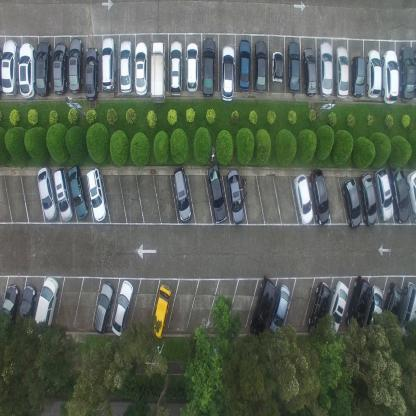car: (32, 275, 60, 336), (249, 277, 276, 337), (345, 275, 371, 331), (325, 280, 349, 336), (388, 164, 410, 223), (67, 165, 90, 221), (308, 281, 332, 334), (86, 168, 109, 223), (54, 166, 76, 222), (112, 278, 134, 334), (150, 283, 172, 339), (37, 166, 59, 222), (206, 165, 226, 226), (380, 282, 402, 336), (292, 172, 313, 227), (310, 168, 330, 225), (361, 286, 384, 335), (94, 281, 115, 334), (268, 284, 289, 337), (172, 167, 192, 222), (0, 282, 20, 336), (1, 37, 19, 96), (374, 168, 394, 221), (150, 39, 166, 105), (226, 168, 244, 226), (398, 281, 416, 337), (18, 283, 37, 336), (18, 40, 35, 99), (342, 178, 361, 230), (34, 40, 51, 98), (359, 174, 377, 228), (382, 49, 399, 104), (399, 43, 415, 100), (68, 36, 83, 95), (221, 44, 236, 102), (101, 35, 116, 93), (202, 36, 216, 98), (318, 41, 333, 98), (169, 40, 184, 96), (366, 48, 382, 100), (134, 40, 148, 98), (85, 46, 99, 102), (53, 40, 67, 96), (253, 38, 267, 93), (185, 41, 199, 94), (334, 45, 348, 98), (238, 38, 251, 93), (119, 38, 132, 93), (302, 46, 316, 96), (287, 40, 300, 93), (351, 54, 365, 97), (406, 169, 415, 223), (271, 49, 283, 84)
